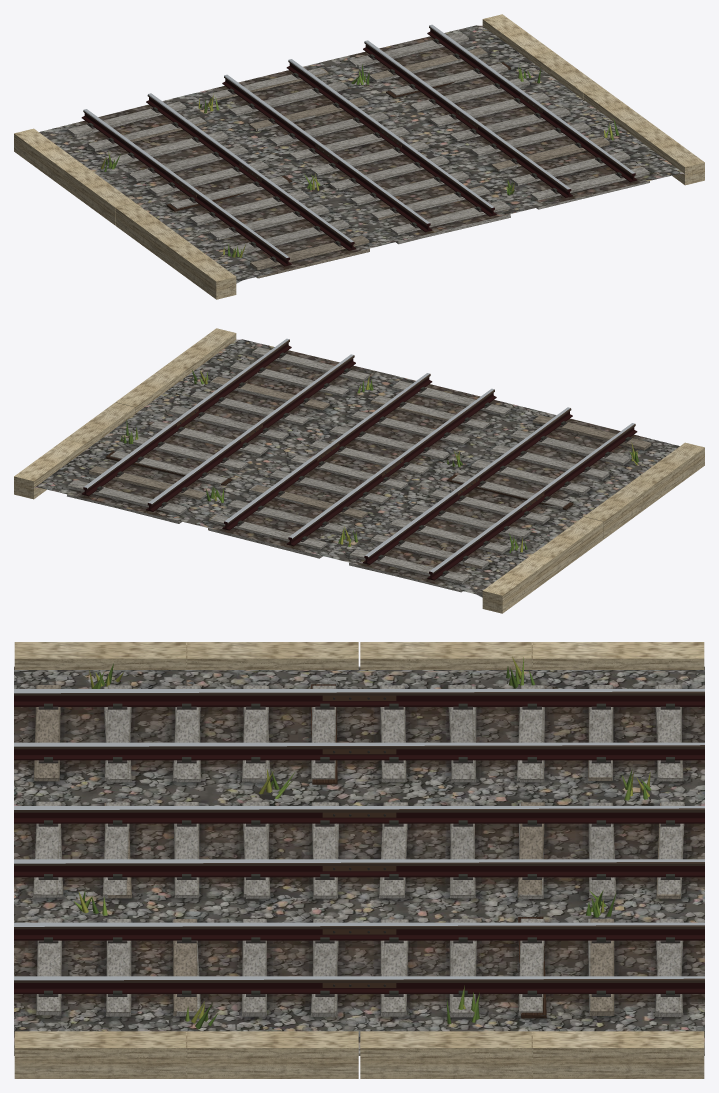
File: rail-track.glb
3 renders of one model, top to bottom at view 1: azimuth 30°, elevation 25°; view 2: azimuth 150°, elevation 25°; view 3: azimuth 270°, elevation 25°, orthographic. The views are drawn at different scales.
Parts seen in each view (by area): view 1: track:worn, track:clean, track:far; view 2: track:worn, track:clean, track:far; view 3: track:worn, track:clean, track:far.
Boxes of the visible parts, box(x1,y1,x2,y2) form: track:worn: box(14, 14, 704, 299); track:clean: box(14, 20, 704, 299); track:far: box(14, 24, 684, 283); track:worn: box(14, 328, 704, 613); track:clean: box(14, 334, 704, 612); track:far: box(35, 351, 704, 604); track:worn: box(14, 642, 704, 1078); track:clean: box(14, 658, 704, 1078); track:far: box(14, 642, 703, 1078).
Bounding box in the file's own units: 8.34 × 0.4877 × 6.
5 materials, 3 textured.
